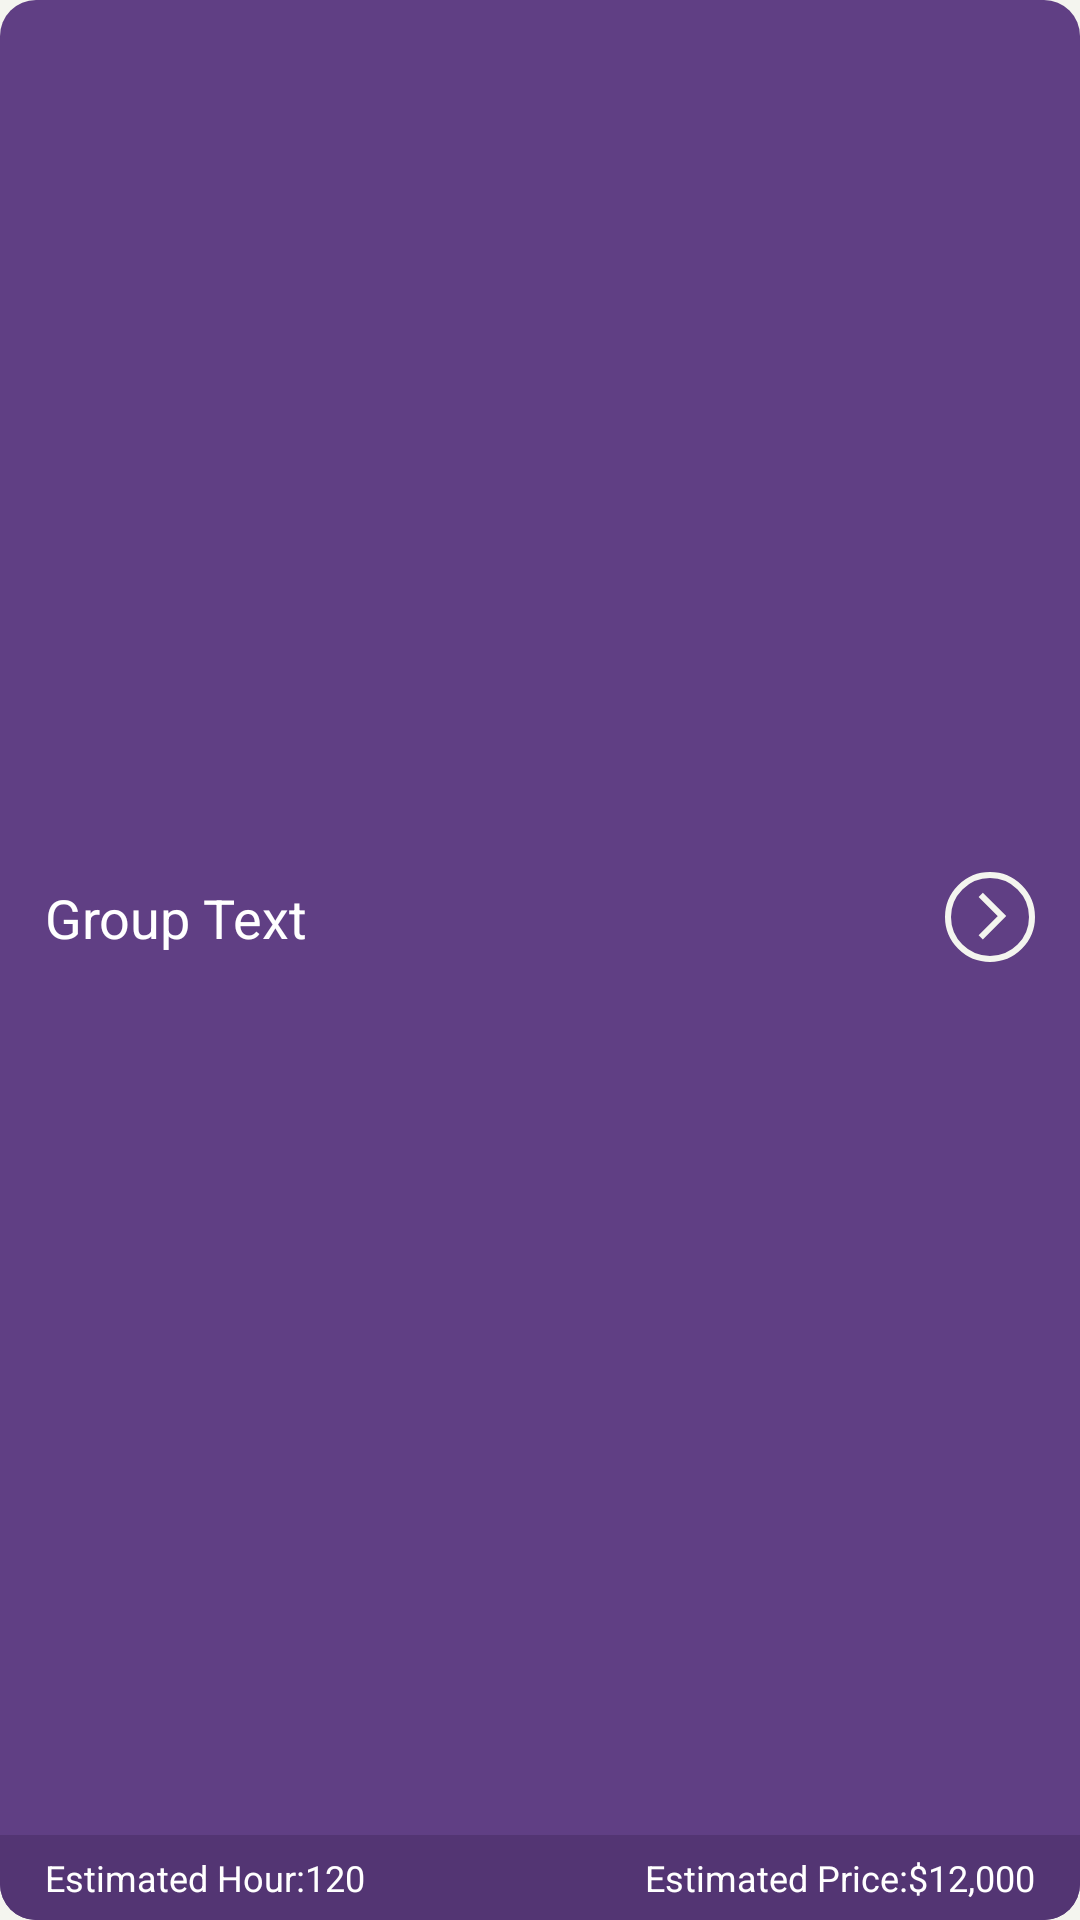

Where icons sit on this 1080 x 1920 app screen, as (left=x1, top=y1, right=x2, bottom=y2):
Detail: (left=945, top=872, right=1035, bottom=962)
